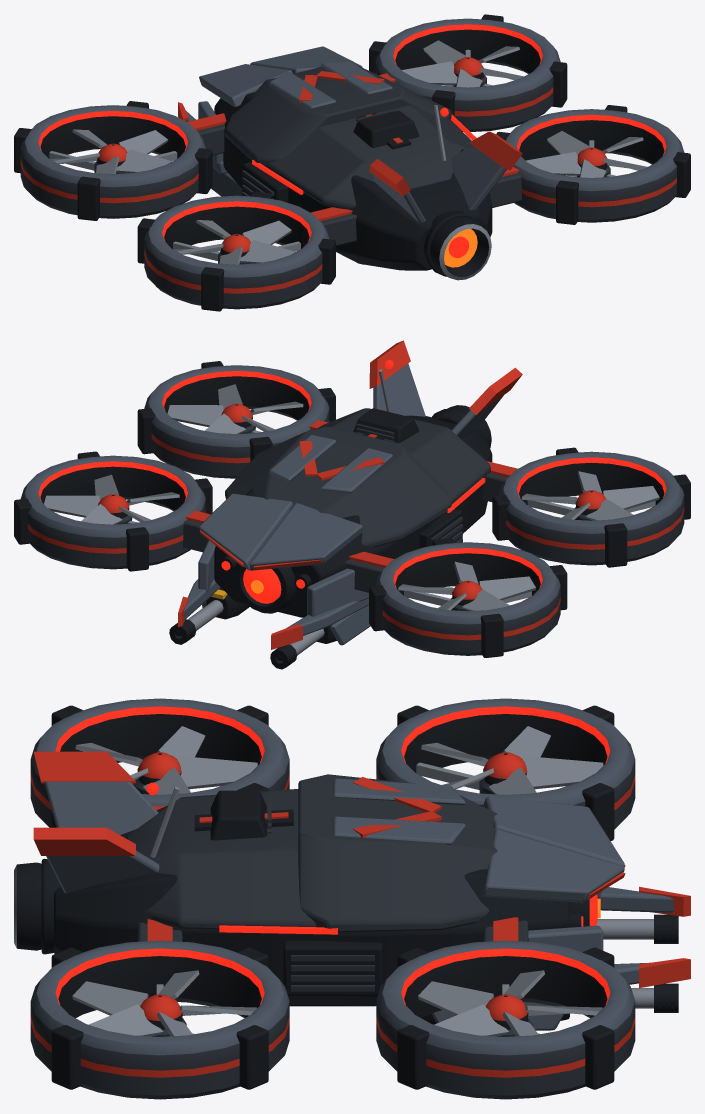
Rendered from drone.glb.
3 views of the same model, one above another, from view 1: azimuth 30°, elevation 25°; view 2: azimuth 150°, elevation 25°; view 3: azimuth 270°, elevation 25° (orthographic). The views are drawn at different scales.
Visible parts, largest first — view 1: Drone_Body, Drone_Engine, Drone_Rotor_RL, Drone_Rotor_FL, Drone_Rotor_FR, Drone_Rotor_RR; view 2: Drone_Body, Drone_Rotor_RL, Drone_Rotor_FL, Drone_Rotor_FR, Drone_Rotor_RR, Drone_Sensor; view 3: Drone_Body, Drone_Rotor_RR, Drone_Rotor_FR, Drone_Rotor_FL, Drone_Rotor_RL, Drone_Engine.
Part boxes in pixels (box(x1,y1,x2,y2)): Drone_Body: box(14, 14, 690, 311); Drone_Engine: box(430, 217, 491, 280); Drone_Rotor_RL: box(173, 220, 295, 264); Drone_Rotor_FL: box(50, 129, 171, 173); Drone_Rotor_FR: box(402, 40, 523, 87); Drone_Rotor_RR: box(526, 131, 647, 177); Drone_Body: box(14, 340, 690, 669); Drone_Rotor_RL: box(522, 471, 659, 520); Drone_Rotor_FL: box(398, 561, 535, 610); Drone_Rotor_FR: box(44, 474, 179, 524); Drone_Rotor_RR: box(167, 384, 303, 433); Drone_Sensor: box(243, 569, 281, 603); Drone_Body: box(30, 698, 690, 1099); Drone_Rotor_RR: box(72, 970, 256, 1036); Drone_Rotor_FR: box(418, 970, 602, 1036); Drone_Rotor_FL: box(421, 726, 603, 794); Drone_Rotor_RL: box(75, 726, 257, 794); Drone_Engine: box(14, 862, 41, 950).
Size of the model in its own units: 1.68 by 0.4951 by 1.37.
